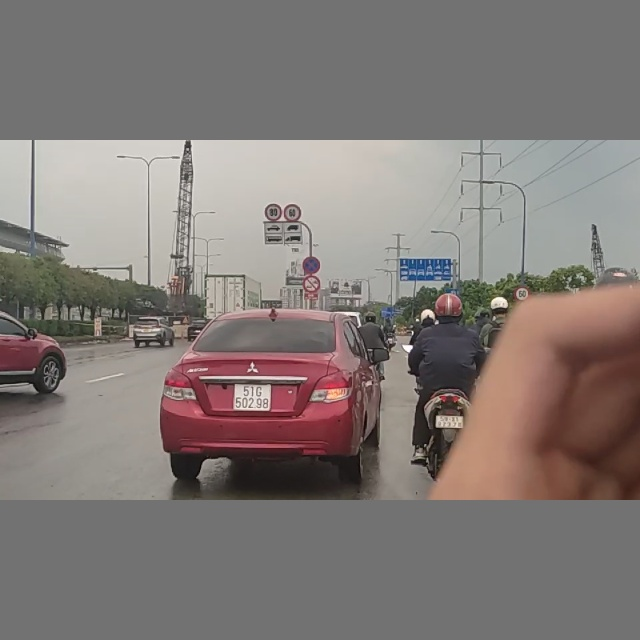P.127*60: (283, 203, 301, 221)
P.127*80: (261, 205, 282, 221)
P.130: (302, 257, 321, 274)
